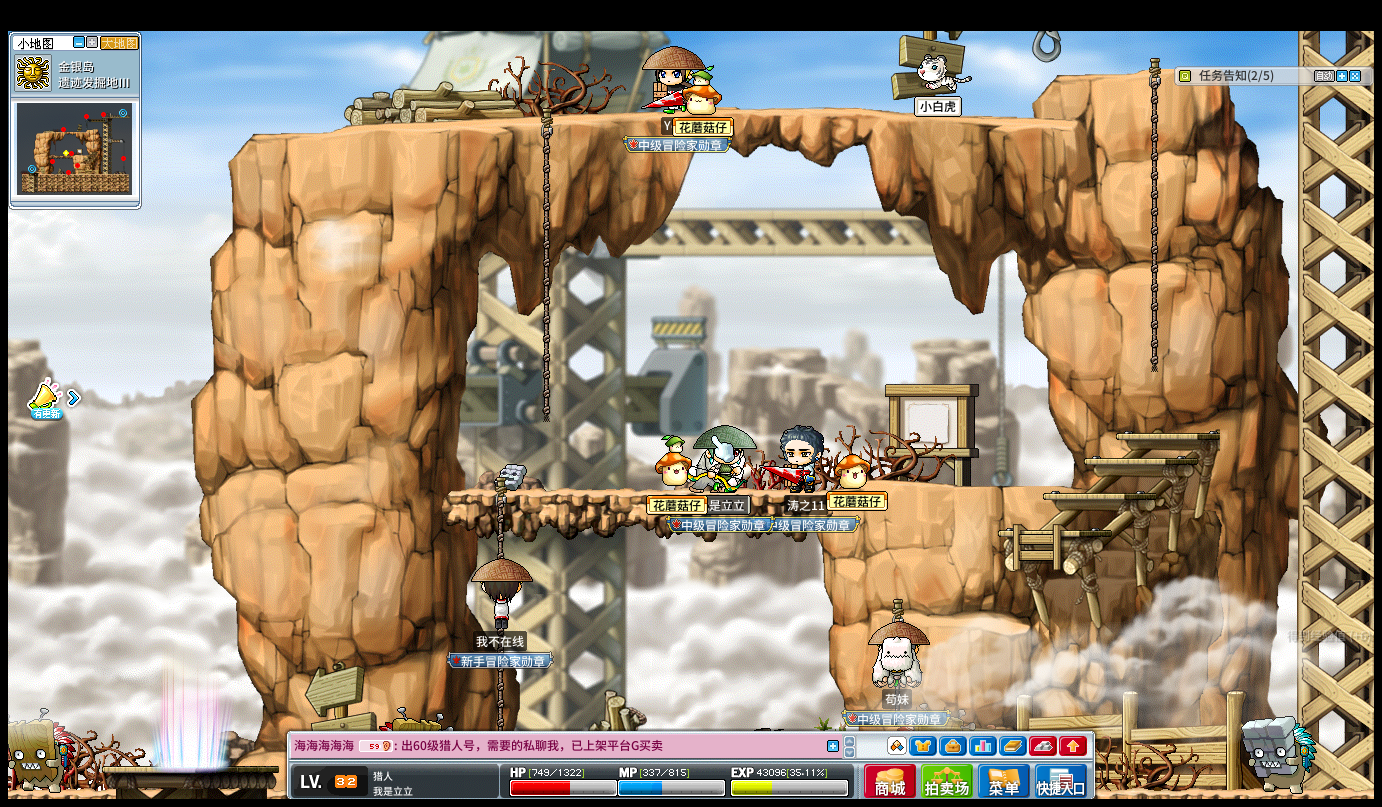floor: (240, 105, 1083, 140), (446, 488, 823, 499), (923, 613, 1030, 635), (902, 482, 1076, 492), (1052, 67, 1169, 81), (1114, 429, 1221, 441), (1077, 455, 1194, 464), (1041, 492, 1154, 500), (996, 528, 1108, 536)
monster: (3, 713, 76, 792), (1240, 717, 1316, 791)
rope: (1146, 56, 1160, 377), (540, 107, 551, 427), (492, 481, 505, 559), (492, 669, 503, 726), (494, 668, 503, 722)
